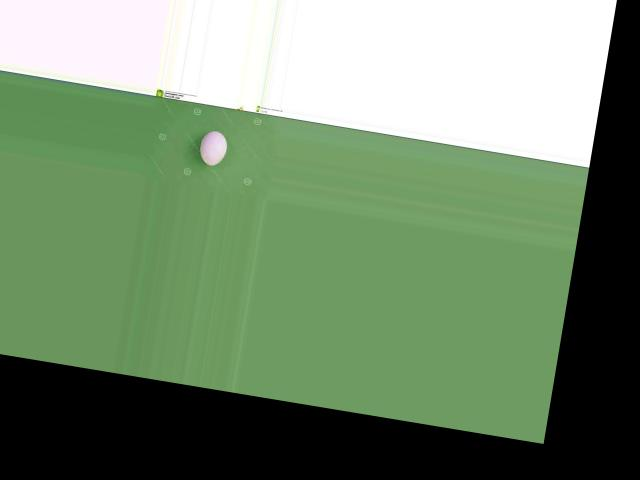egg: (197, 129, 229, 166)
